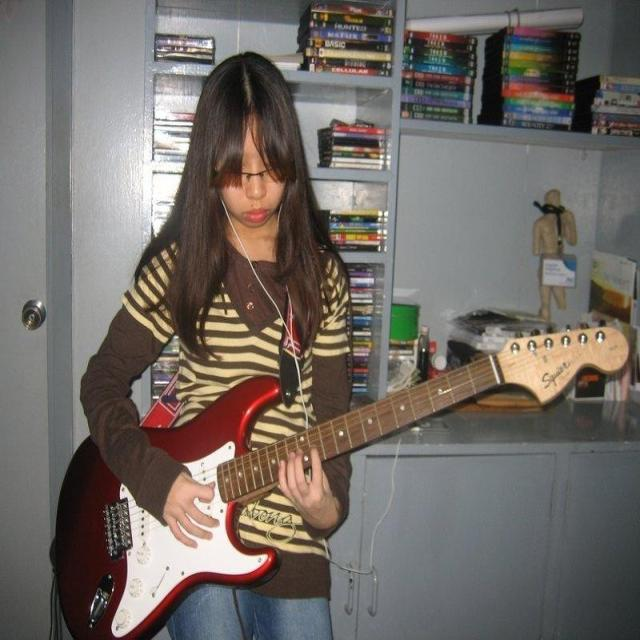guitar: (50, 328, 629, 640)
